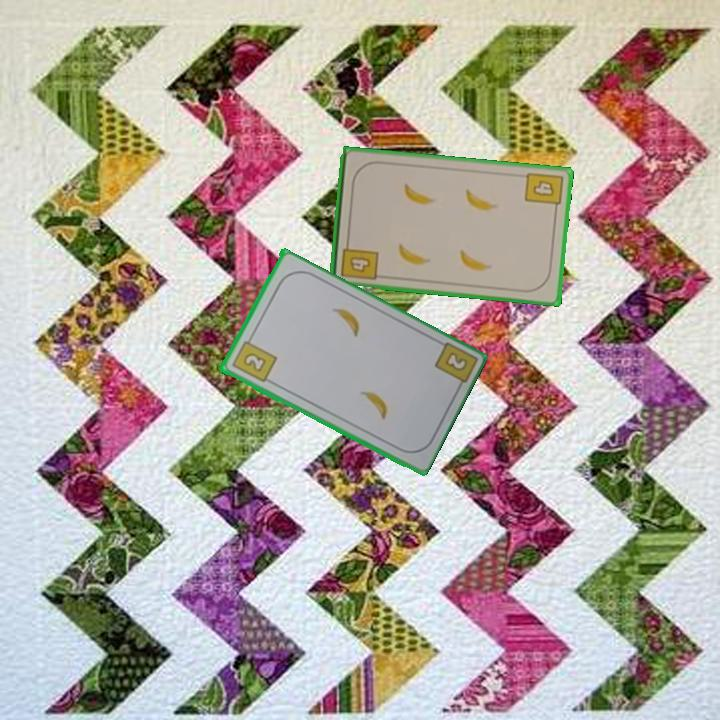2b: (228, 332, 279, 385), (441, 348, 468, 372)
4b: (521, 168, 566, 215), (337, 237, 381, 283)
